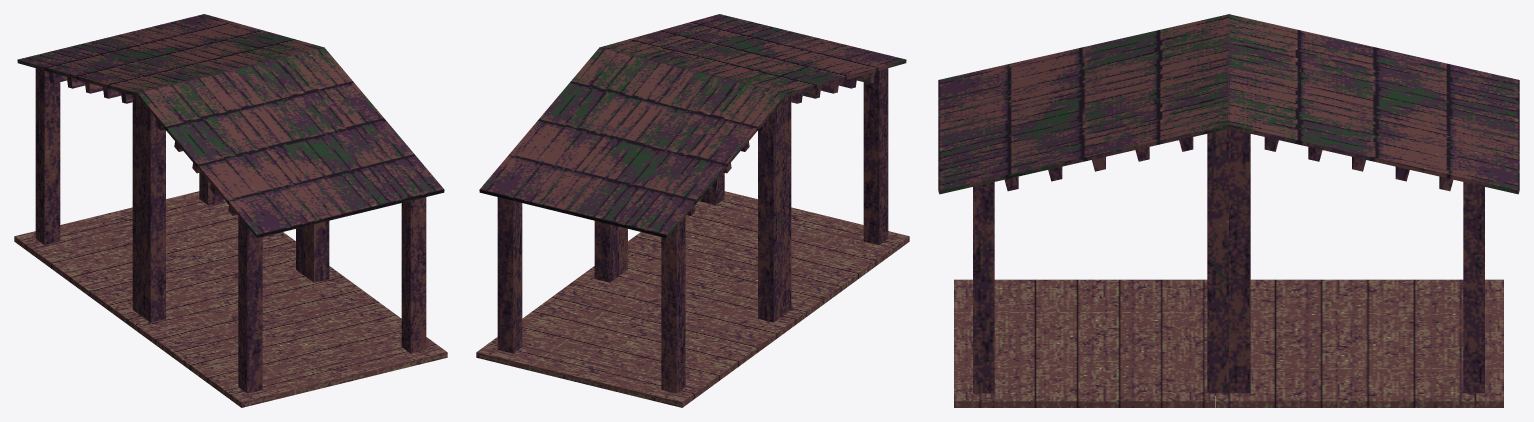
File: CabhineDuplatop.fbx
3 renders of one model, left to right at view 1: azimuth 30°, elevation 25°; view 2: azimuth 150°, elevation 25°; view 3: azimuth 270°, elevation 25°, orthographic. The views are drawn at different scales.
Parts seen in each view (by area): view 1: Material-material.001; view 2: Material-material.001; view 3: Material-material.001.
Boxes of the visible parts, left/top/right/bottom form: Material-material.001: left=14, top=14, right=447, bottom=407; Material-material.001: left=476, top=14, right=909, bottom=407; Material-material.001: left=938, top=14, right=1519, bottom=407.
Size of the model in its own units: 368 by 391 by 742.
1 material, 1 textured.
